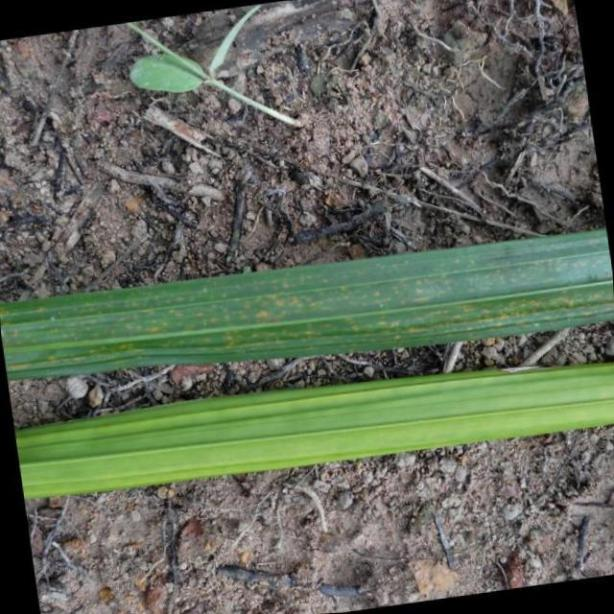nitrogen: (0, 225, 614, 379), (0, 360, 614, 502)
